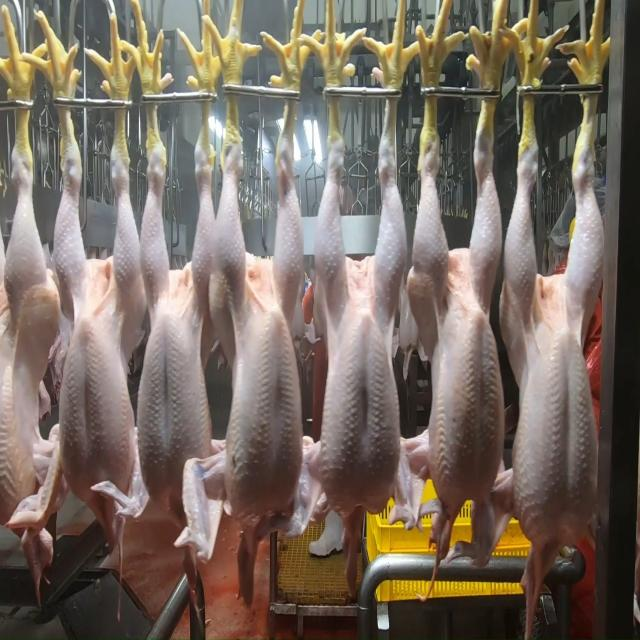chicken: (503, 145, 607, 524), (412, 131, 508, 513), (214, 128, 304, 530), (311, 137, 407, 513), (58, 138, 140, 517), (146, 132, 216, 510), (4, 162, 54, 519)
